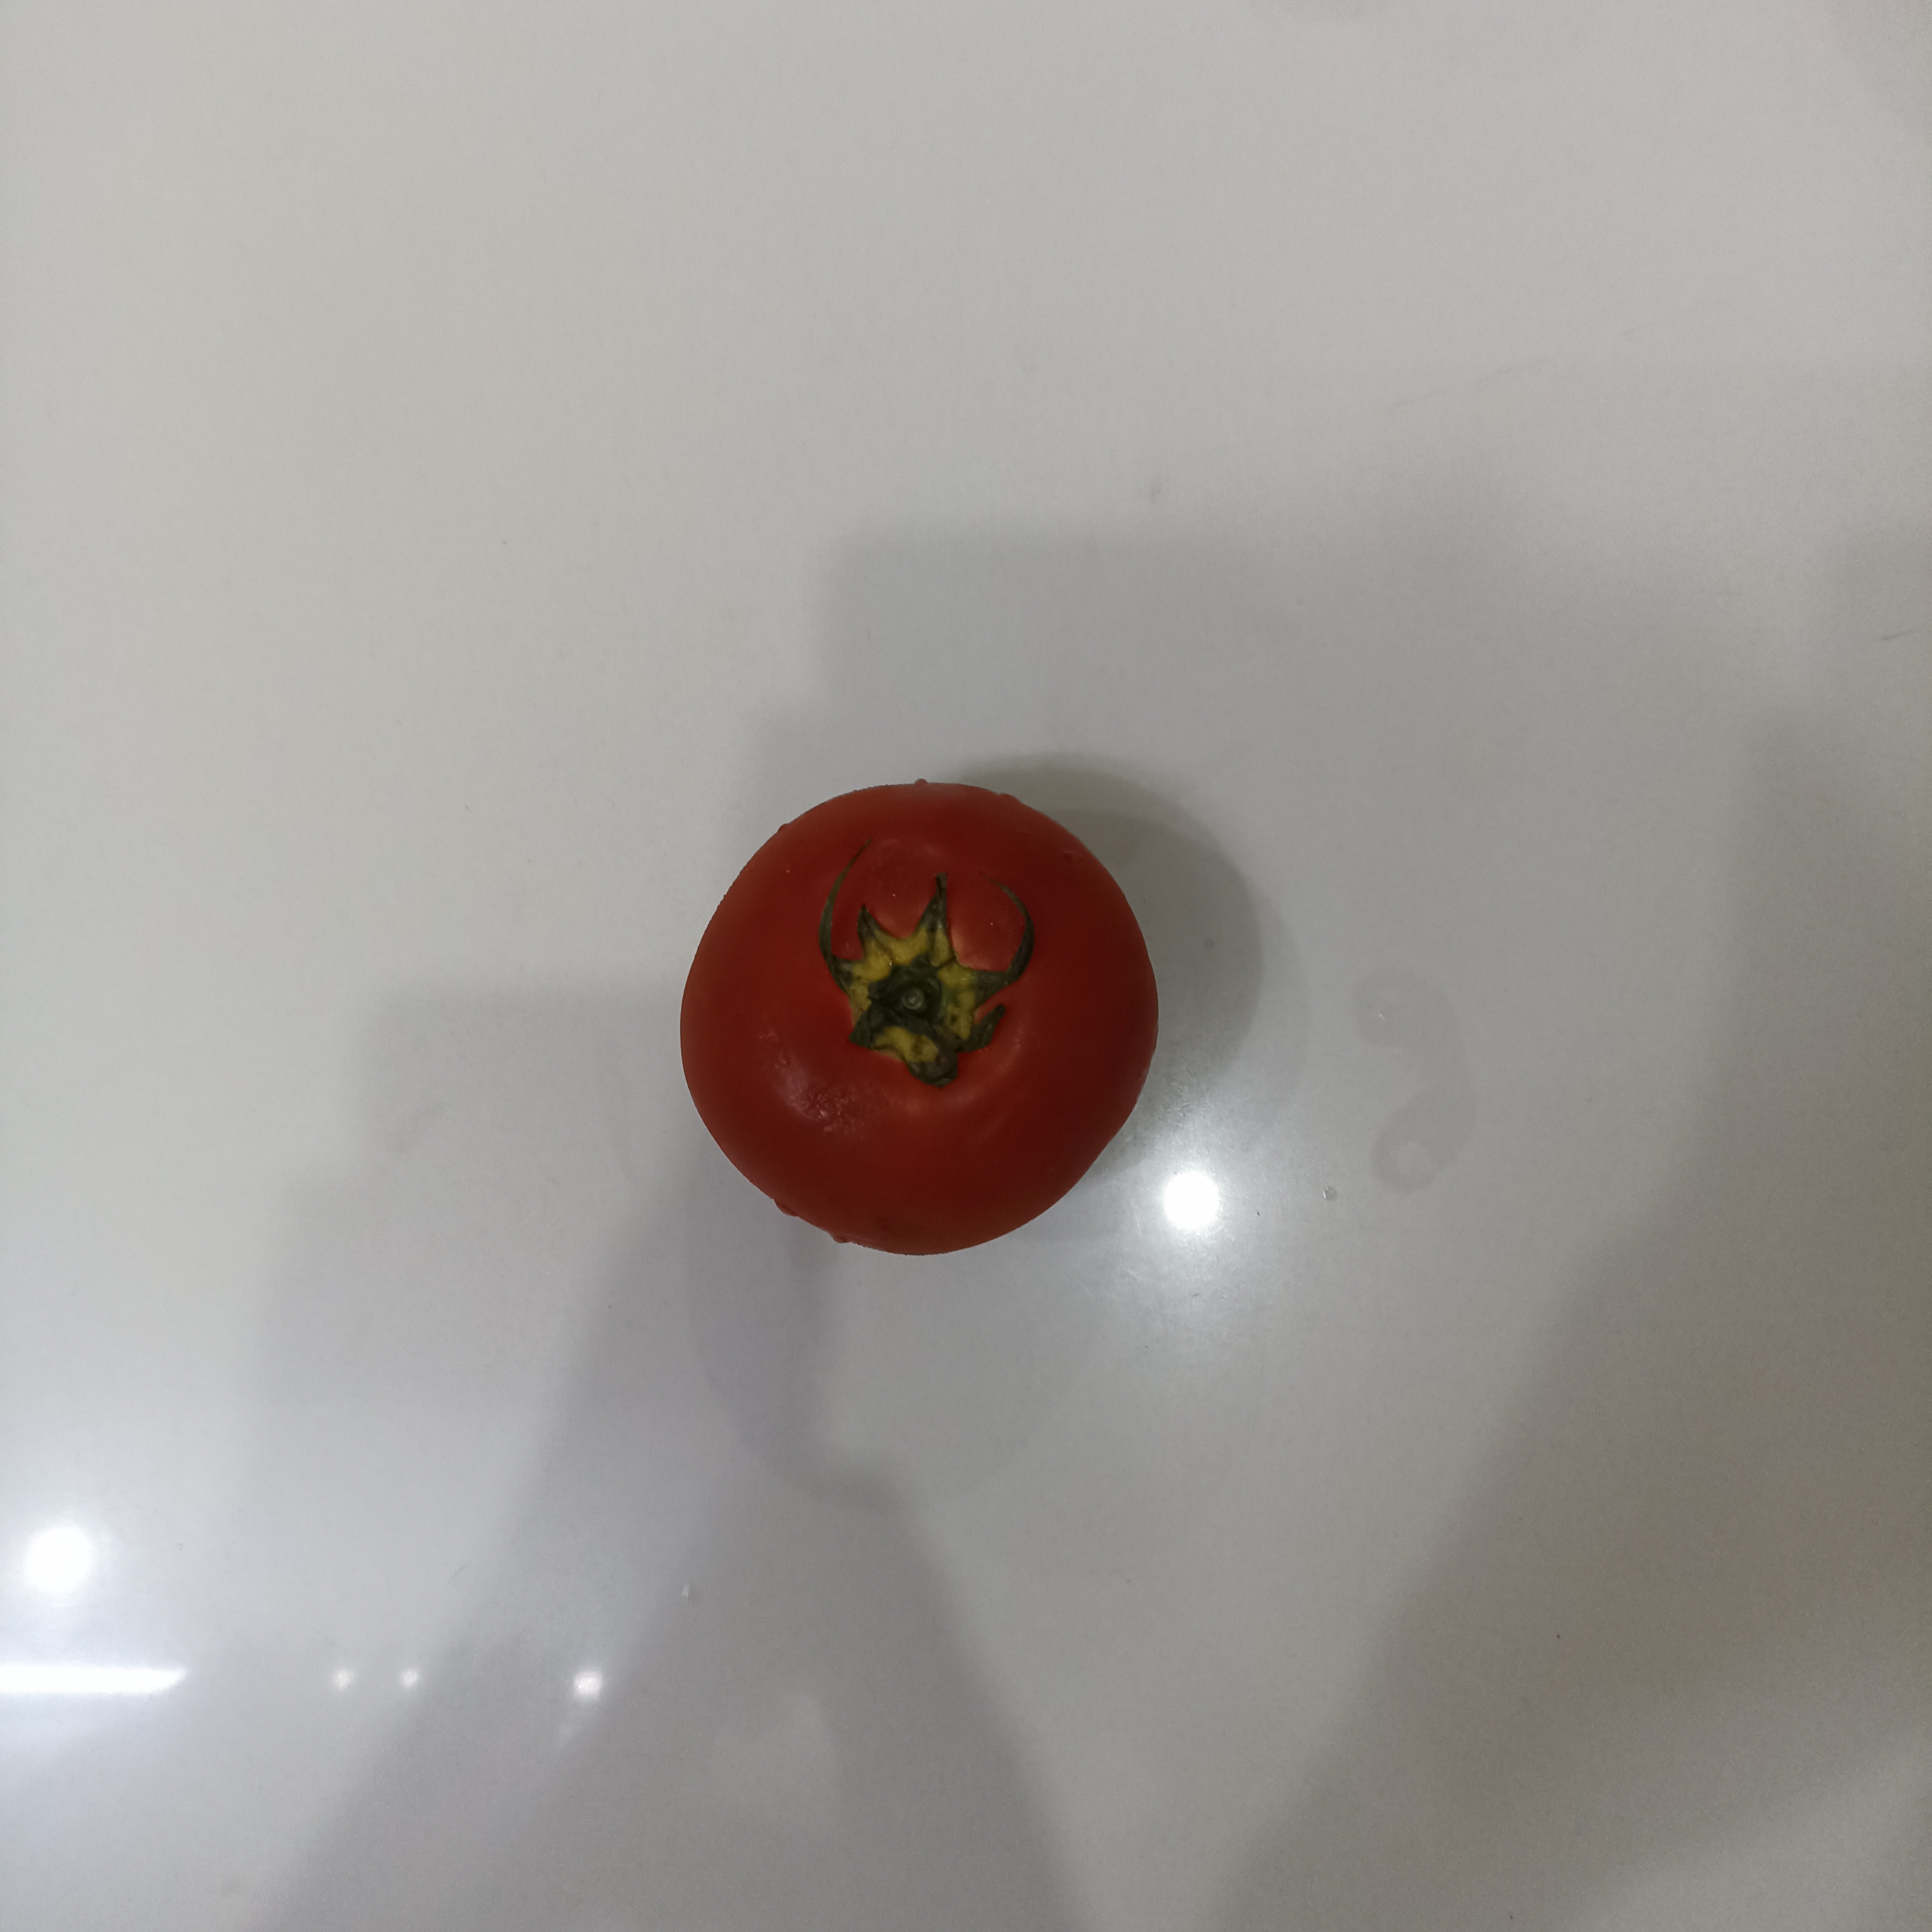Ca chua: (679, 784, 1159, 1263)
